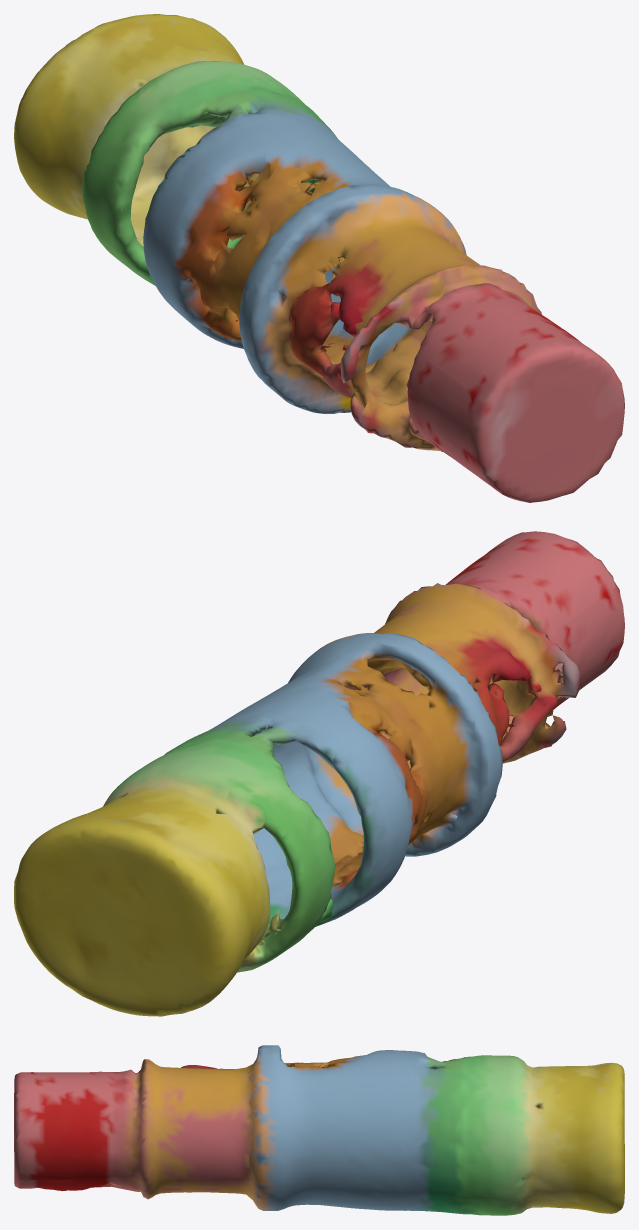
File: stucking_cups.glb
3 renders of one model, top to bottom at view 1: azimuth 30°, elevation 25°; view 2: azimuth 150°, elevation 25°; view 3: azimuth 270°, elevation 25°, orthographic. The views are drawn at different scales.
Size of the model in its own units: 0.3183 by 0.2698 by 0.9999.
